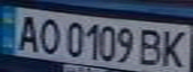0: (97, 22, 118, 63), (63, 18, 84, 58)
1: (81, 20, 100, 61)
9: (115, 25, 139, 64)
A: (12, 11, 42, 53)
B: (136, 26, 166, 66)
K: (157, 27, 193, 69)
O: (33, 16, 63, 55)
